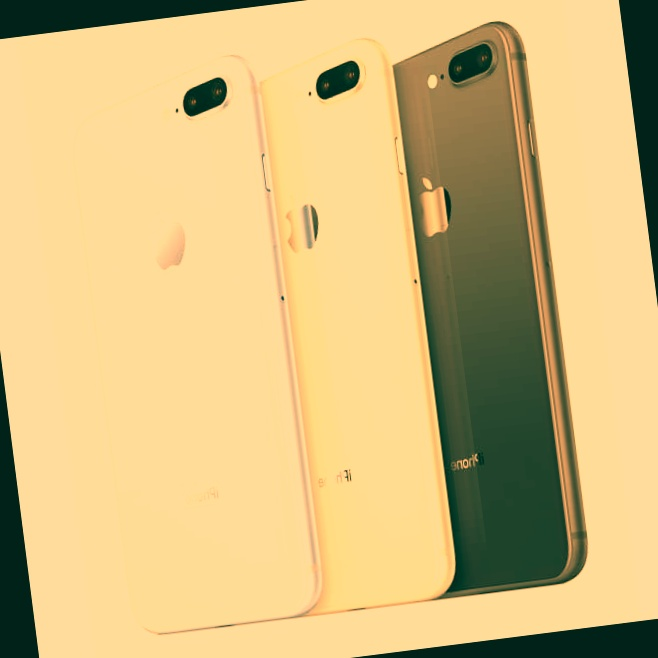iphone: (366, 44, 562, 612)
